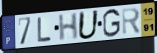7: (17, 16, 32, 46)
G: (102, 8, 121, 39)
H: (57, 12, 79, 43)
L: (36, 16, 53, 43)
R: (121, 6, 142, 37)
U: (77, 9, 101, 41)
